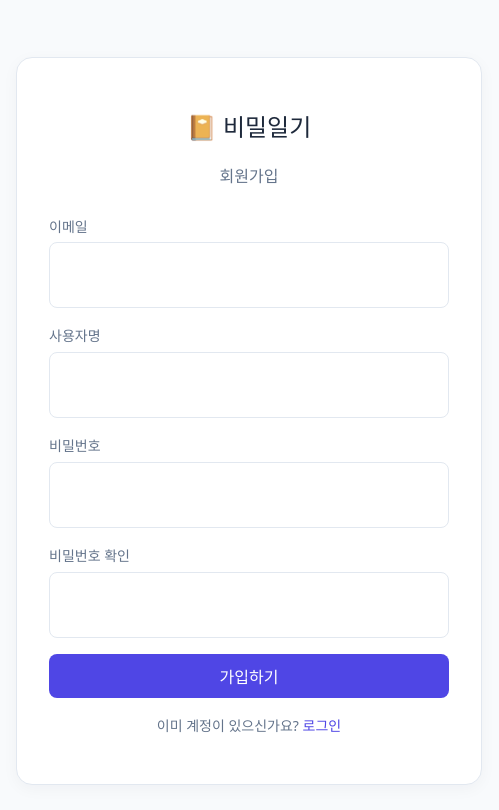
Test: SignupPage › 이메일이 중복(409)되면 안내 메시지를 표시하고 화면을 이동하지 않는다
Type "user@example.com" into the field named "email" at [249, 275], box left=49, top=242, right=449, bottom=308
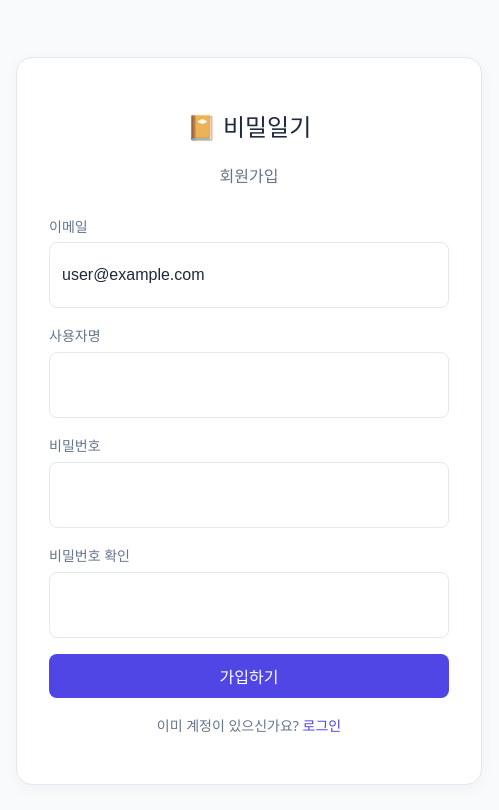
Type "testuser" into the field named "username" at [249, 385], box left=49, top=352, right=449, bottom=418
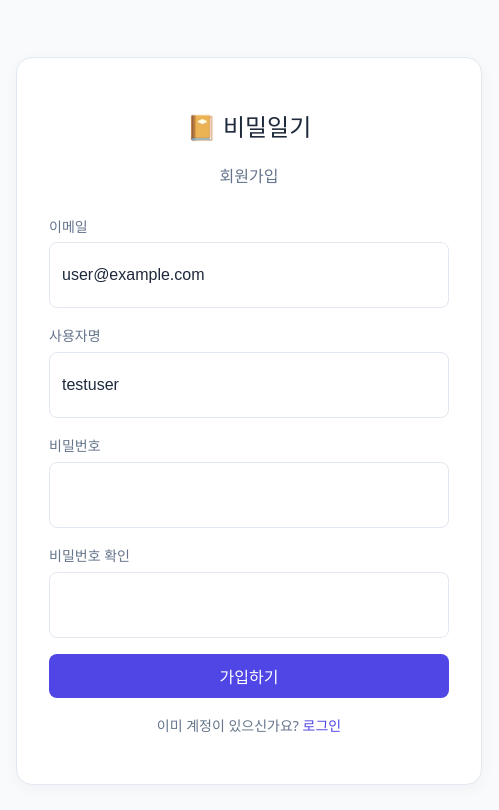
Type "password123" into the password field named "password" at [249, 495], box left=49, top=462, right=449, bottom=528
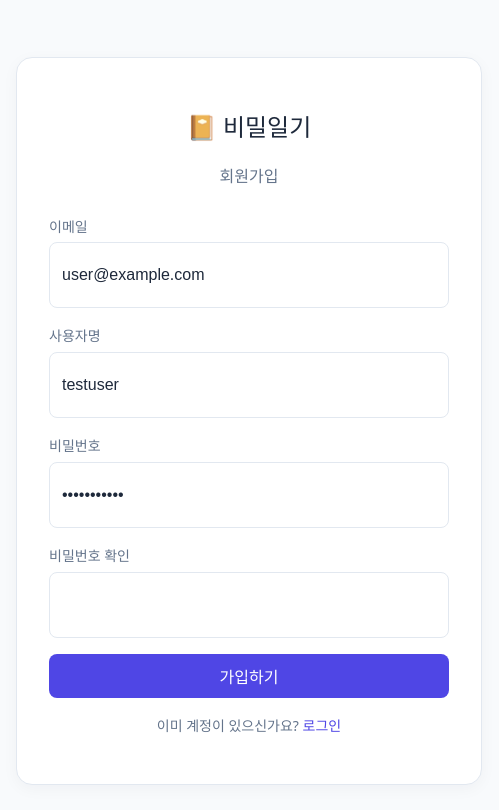
Type "password123" into the password field named "passwordConfirm" at [249, 605], box left=49, top=572, right=449, bottom=638
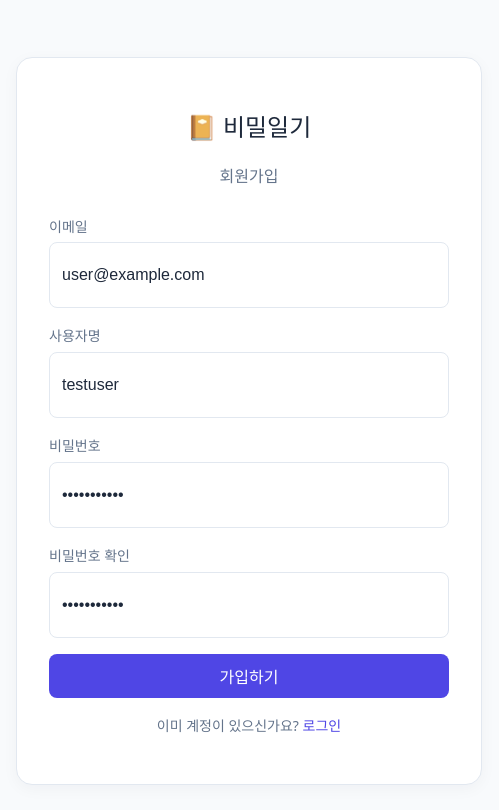
Submit the form, box left=49, top=214, right=449, bottom=698
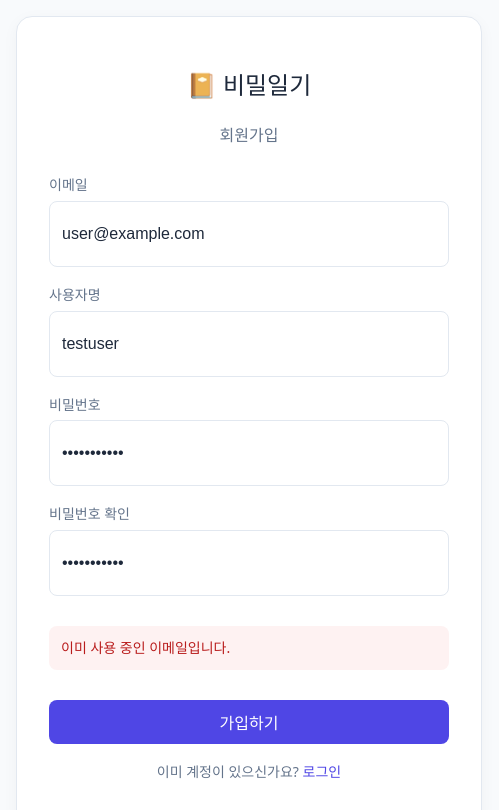
Now the text "이미 사용 중인 이메일입니다." is shown, box left=49, top=626, right=449, bottom=670
